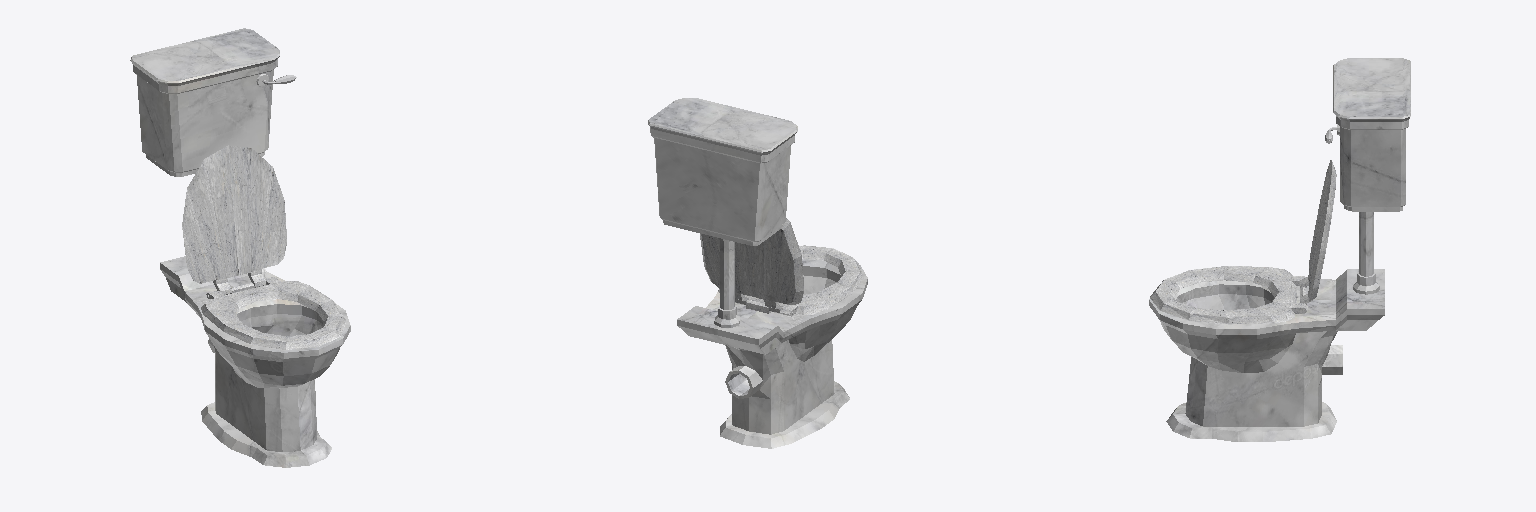
3 views of the same model, side by side, from view 1: azimuth 30°, elevation 25°; view 2: azimuth 150°, elevation 25°; view 3: azimuth 270°, elevation 25° (orthographic).
Parts seen in each view (by area): view 1: Toilet; view 2: Toilet; view 3: Toilet.
Part boxes in pixels (x1,y1,x2,y2): Toilet: (130, 28, 350, 467); Toilet: (648, 98, 867, 448); Toilet: (1149, 58, 1410, 441).
Size of the model in its own units: 2.77 by 6.89 by 4.88.
Materials: 1 (1 with a texture image).